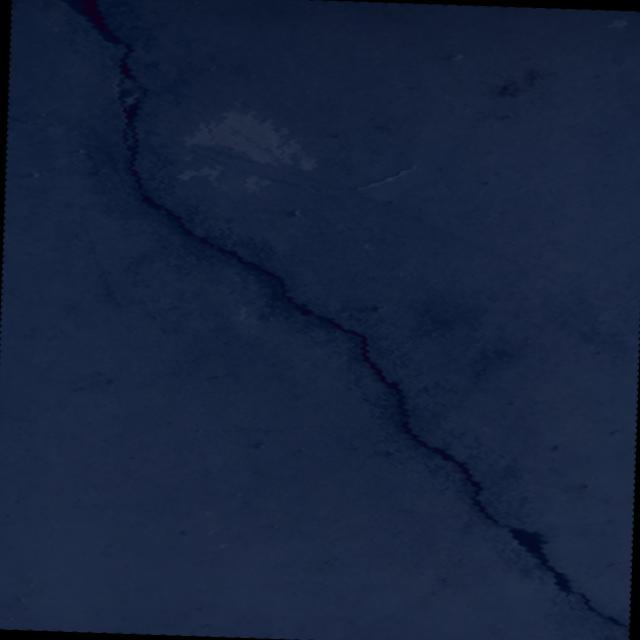crack: (32, 0, 640, 629)
